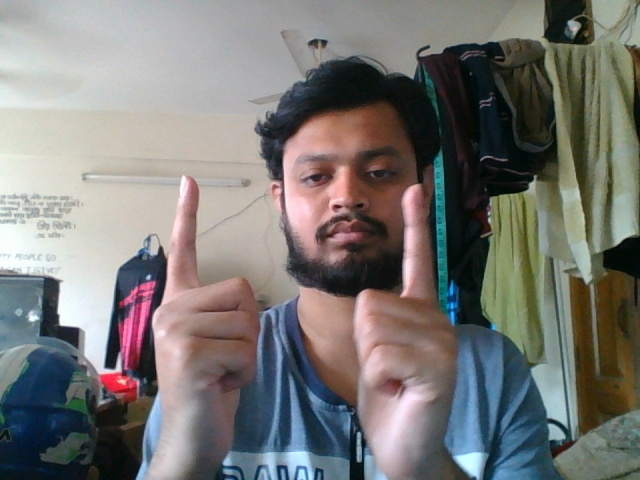ishara: (133, 171, 472, 480)
